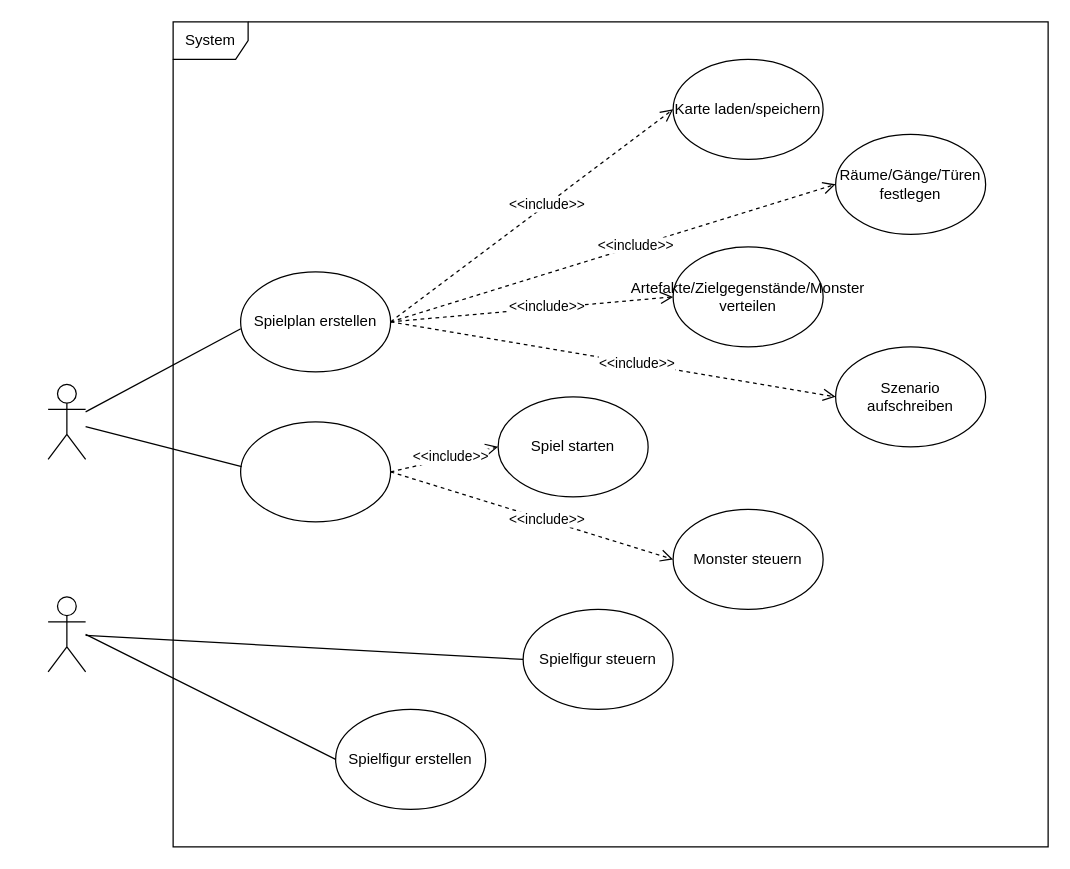
Image size: 1070x869. Some labels were removed from this diagram. Here are the shapes that lost their labels. From the top down, the box of each, then its label:
(47, 383, 86, 459): Game Master
(239, 421, 391, 522): Spiel leiten
(47, 596, 86, 672): Spieler
